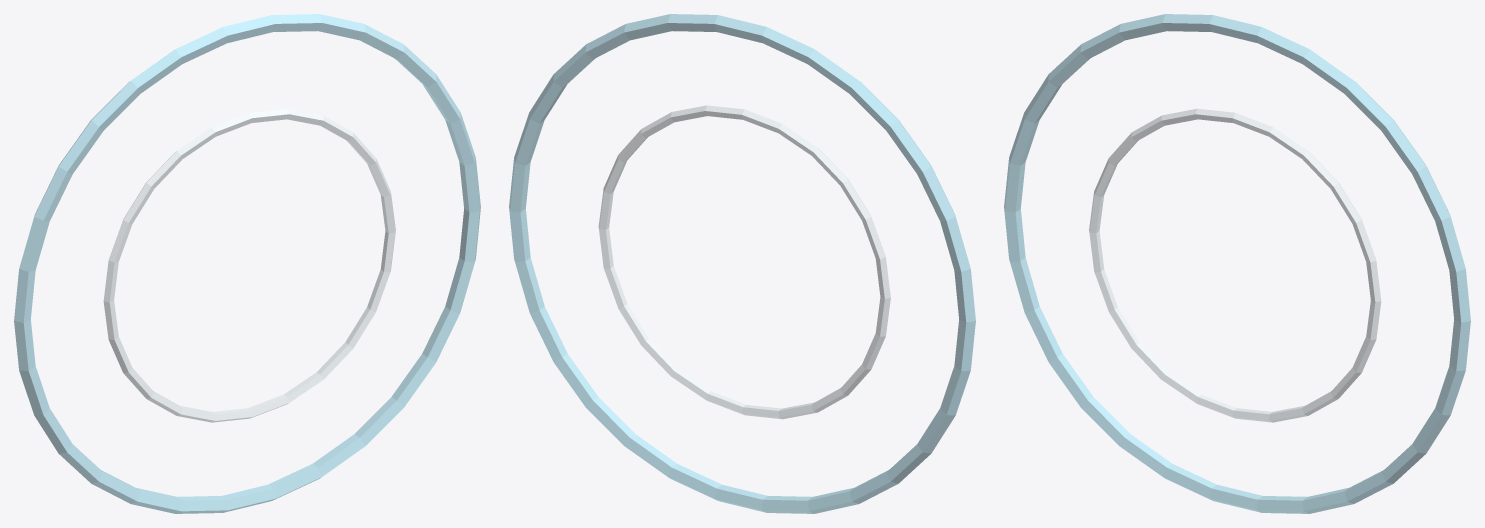
The model's file is vfx_frost_nova_ring.glb.
3 renders of one model, left to right at view 1: azimuth 30°, elevation 25°; view 2: azimuth 150°, elevation 25°; view 3: azimuth 330°, elevation 25°, orthographic.
Visible parts, largest first — view 1: outer, inner; view 2: outer, inner; view 3: outer, inner.
Boxes of the visible parts, left/top/right/bottom form: outer: left=14, top=14, right=480, bottom=513; inner: left=103, top=108, right=395, bottom=422; outer: left=509, top=14, right=975, bottom=513; inner: left=598, top=105, right=890, bottom=419; outer: left=1004, top=14, right=1470, bottom=513; inner: left=1089, top=108, right=1381, bottom=422.
Size of the model in its own units: 2.38 by 2.37 by 0.0818.
